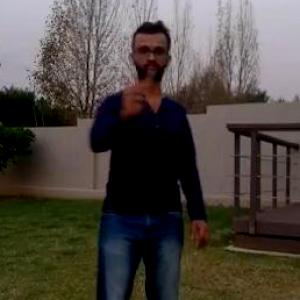takeoff-hand: (112, 65, 148, 119)
